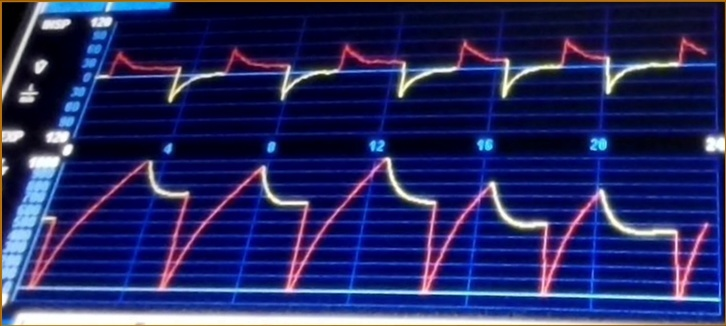Flow: (100, 32, 711, 124)
Leakage Volume: (64, 159, 714, 310)
